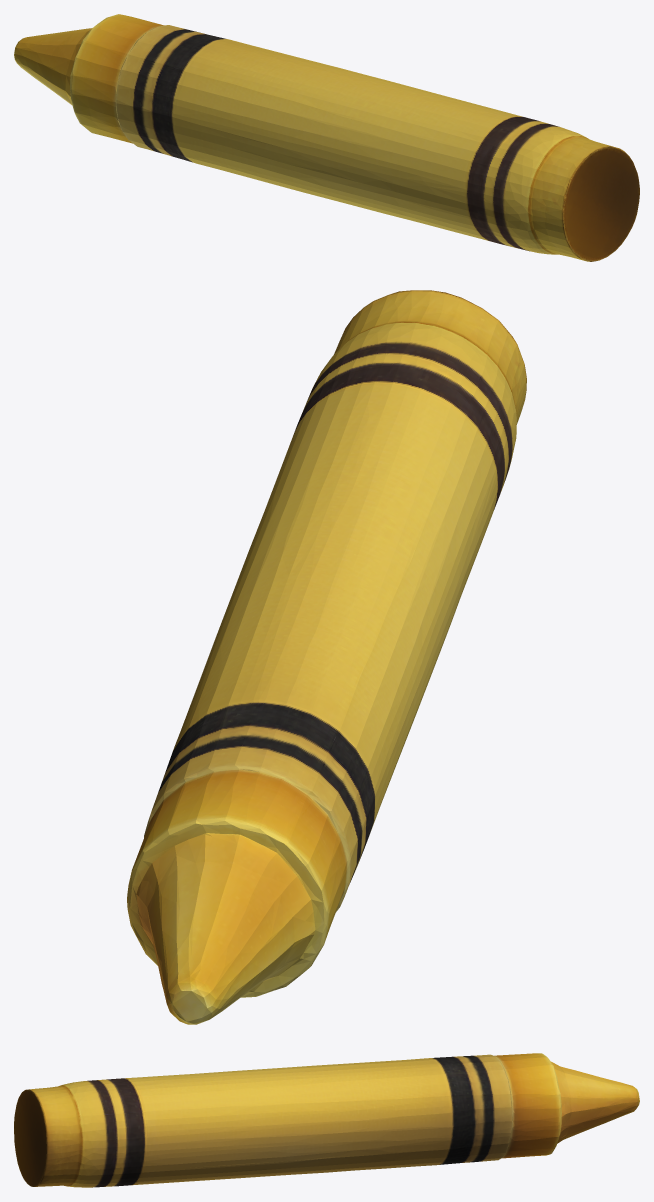
The model's file is cadmio.fbx.
3 renders of one model, top to bottom at view 1: azimuth 30°, elevation 25°; view 2: azimuth 150°, elevation 25°; view 3: azimuth 270°, elevation 25°, orthographic. The views are drawn at different scales.
Parts seen in each view (by area): view 1: geometry_0.001; view 2: geometry_0.001; view 3: geometry_0.001.
Boxes of the visible parts, left/top/right/bottom form: geometry_0.001: left=14, top=14, right=639, bottom=261; geometry_0.001: left=127, top=290, right=526, bottom=1024; geometry_0.001: left=14, top=1053, right=639, bottom=1187.
Size of the model in its own units: 0.2314 by 0.1237 by 0.5302.
1 material, 1 textured.
